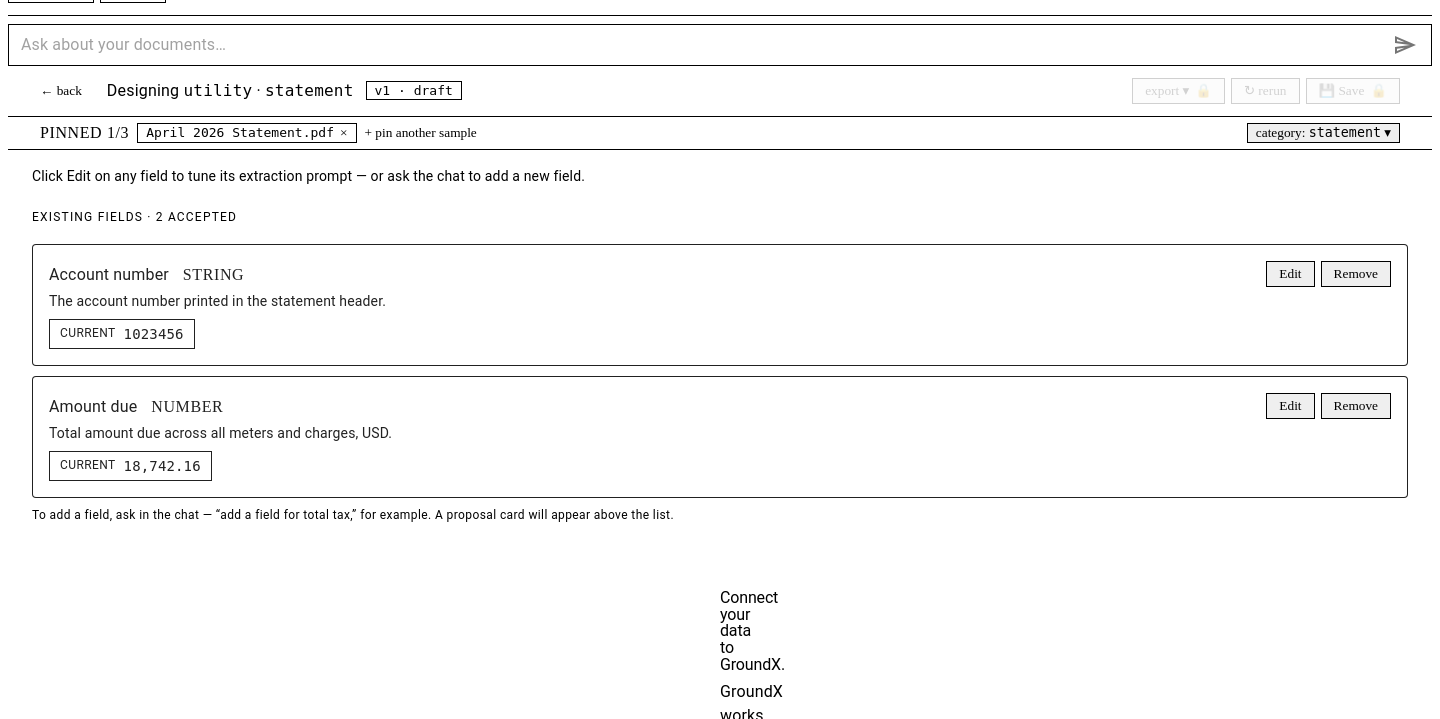
Test case: SchemaView (UI-01 Phase 1) › anonymous Save → gate → commit retries the save and lands on F1 with the schema pre-attached
(page scrolled)
Click the button with test id "schema-remove-field-amount_due".
click(1356, 406)  # box [1321, 393, 1391, 419]
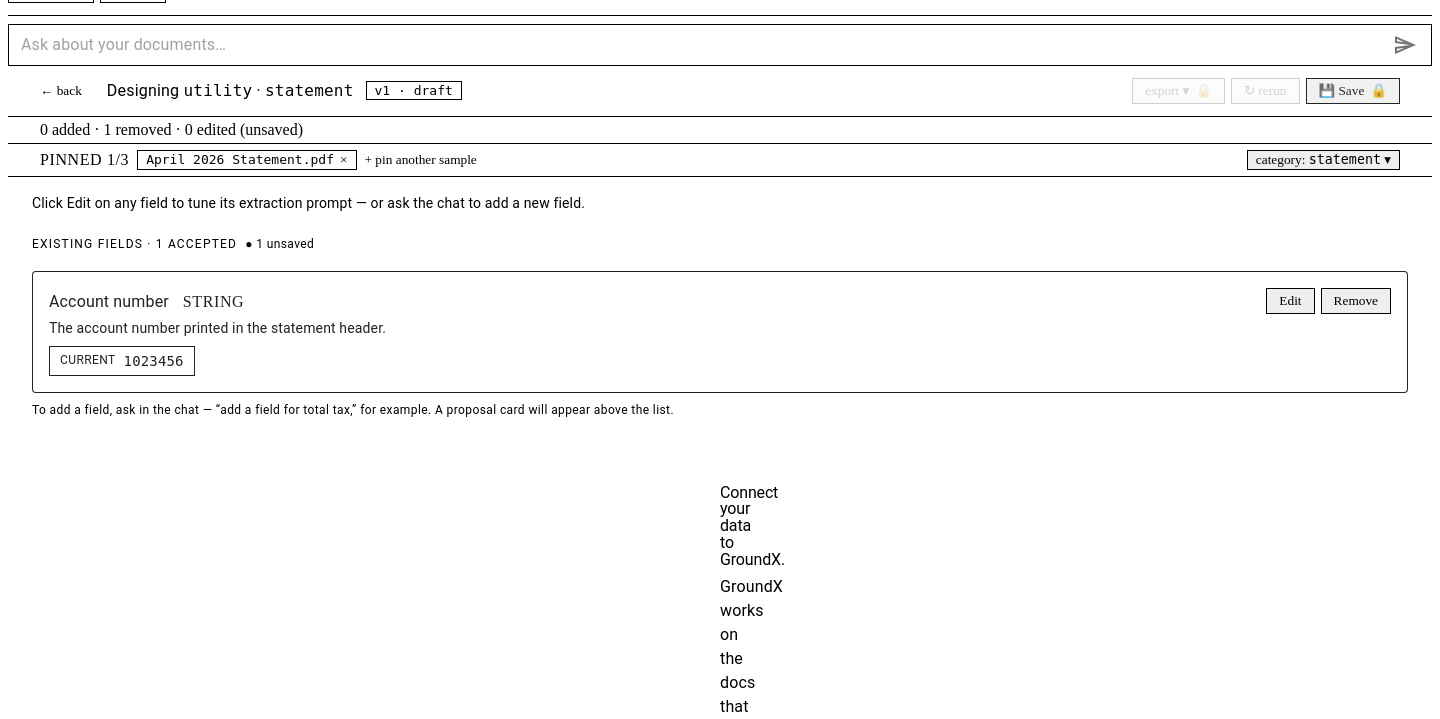
Result: the button with test id "extract-topbar-save" is enabled
Click the button with test id "extract-topbar-save".
click(1353, 91)  # box [1306, 78, 1400, 104]
(page scrolled)
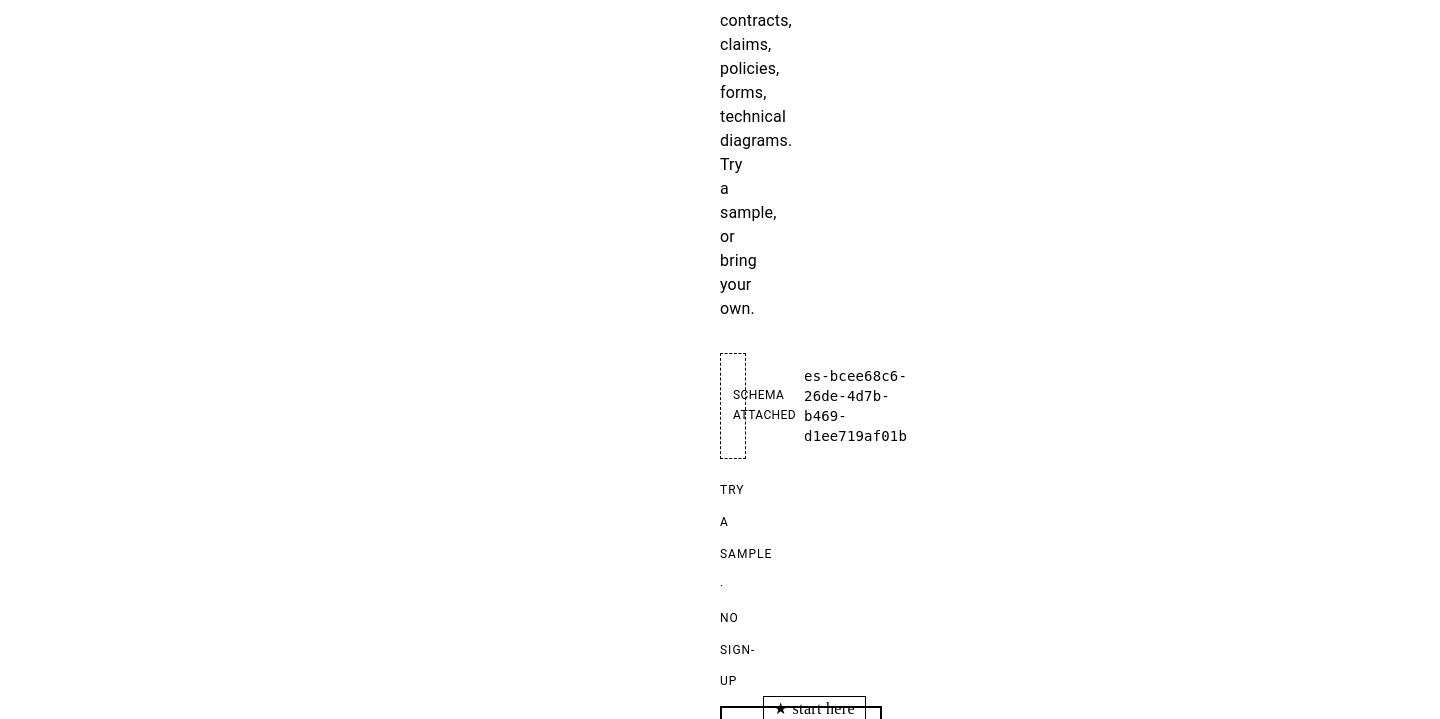
Result: the element with test id "ingest-pre-attached-schema" shows "SCHEMA ATTACHED" at [733, 388, 796, 422]
